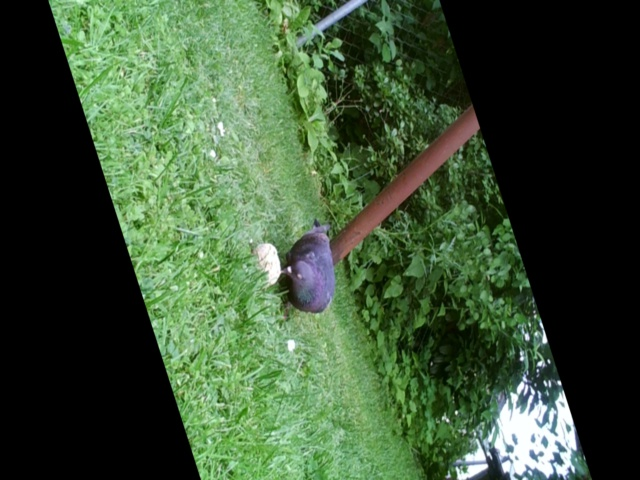Pigeon: (275, 216, 346, 318)
